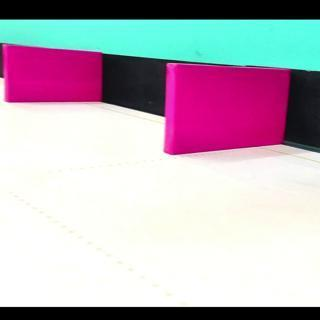xparking: (174, 65, 291, 154), (6, 53, 102, 102)
